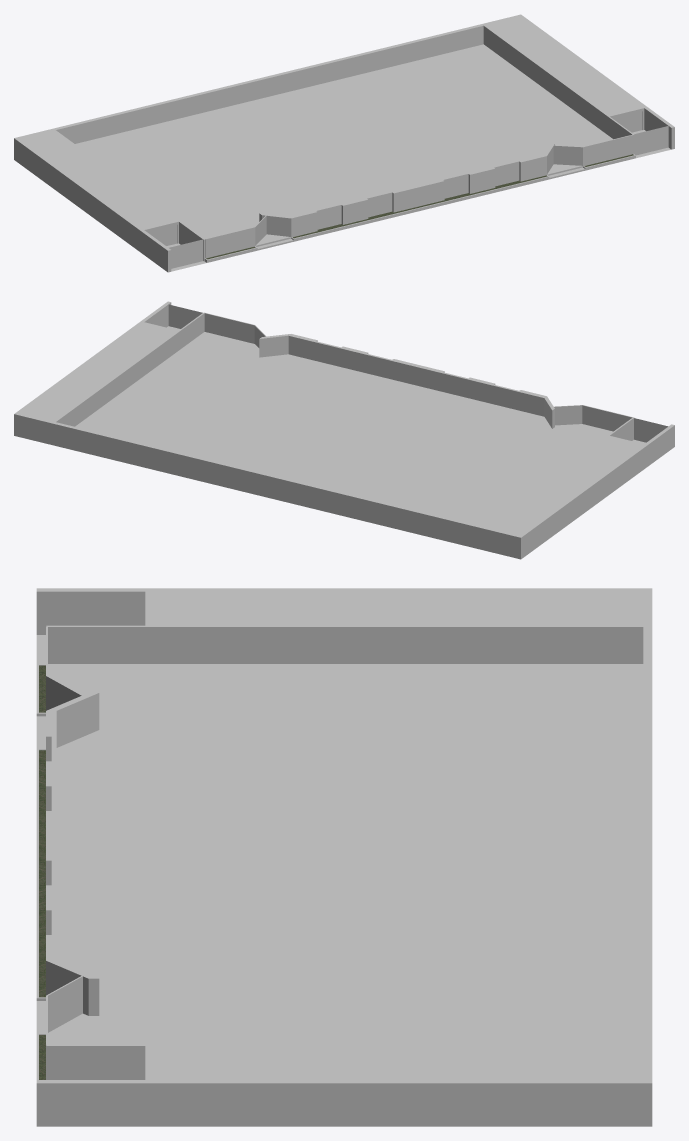
The picture shows the model from 3 angles, top to bottom: view 1: azimuth 30°, elevation 25°; view 2: azimuth 150°, elevation 25°; view 3: azimuth 270°, elevation 25°; orthographic projection. The views are drawn at different scales.
Visible parts, largest first — view 1: Base-07b; view 2: Base-07b; view 3: Base-07b.
Part boxes in pixels (box(x1,y1,x2,y2)): Base-07b: box(14, 14, 674, 272); Base-07b: box(14, 301, 674, 559); Base-07b: box(36, 588, 652, 1126).
Size of what is drawn, in the model's own units: 68.46 by 2.8 by 36.
